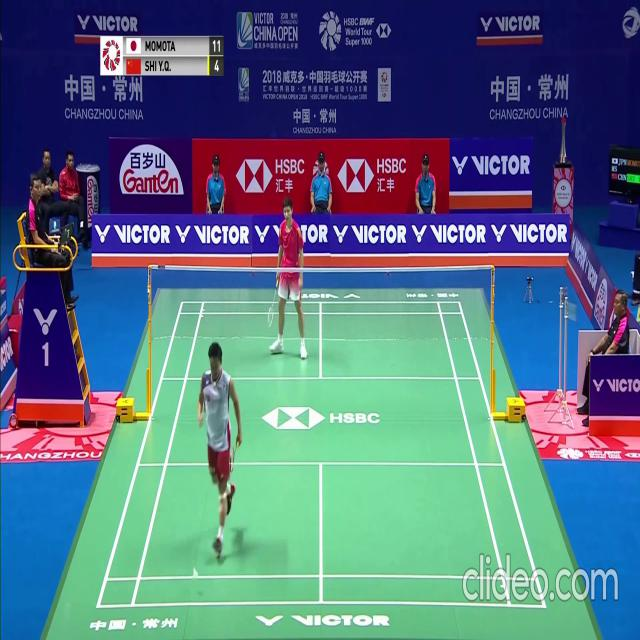Shuttlecock: (192, 568, 197, 576)
